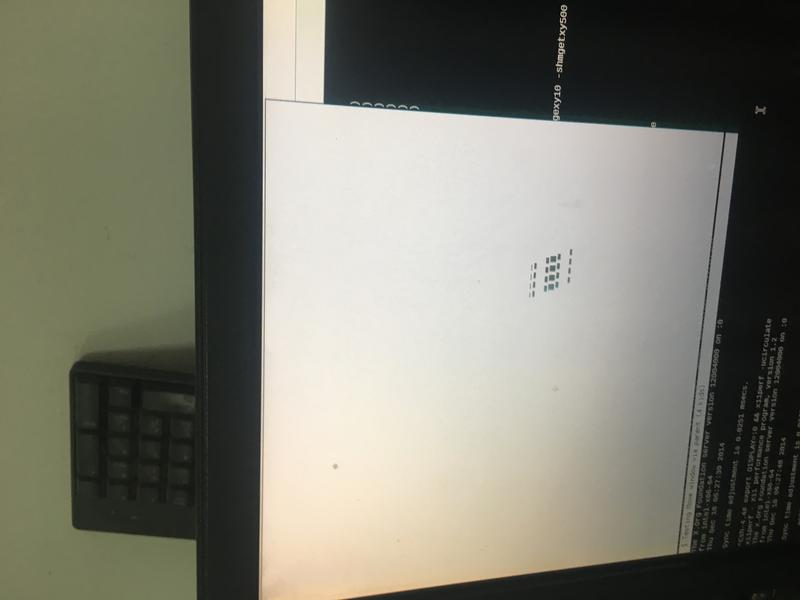xrandr_pass: (222, 83, 749, 596)
